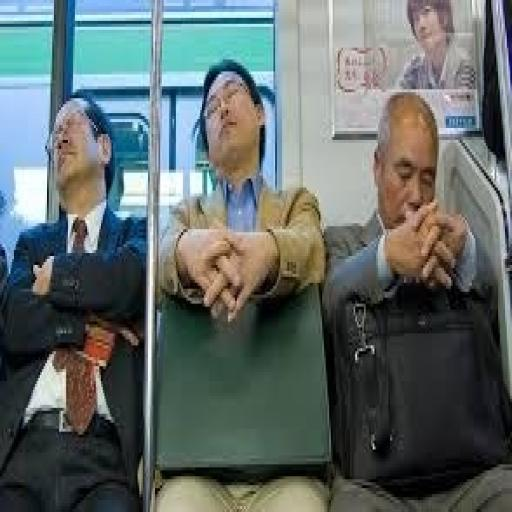sleeping: (153, 54, 331, 509), (320, 86, 510, 509), (0, 89, 150, 509)
